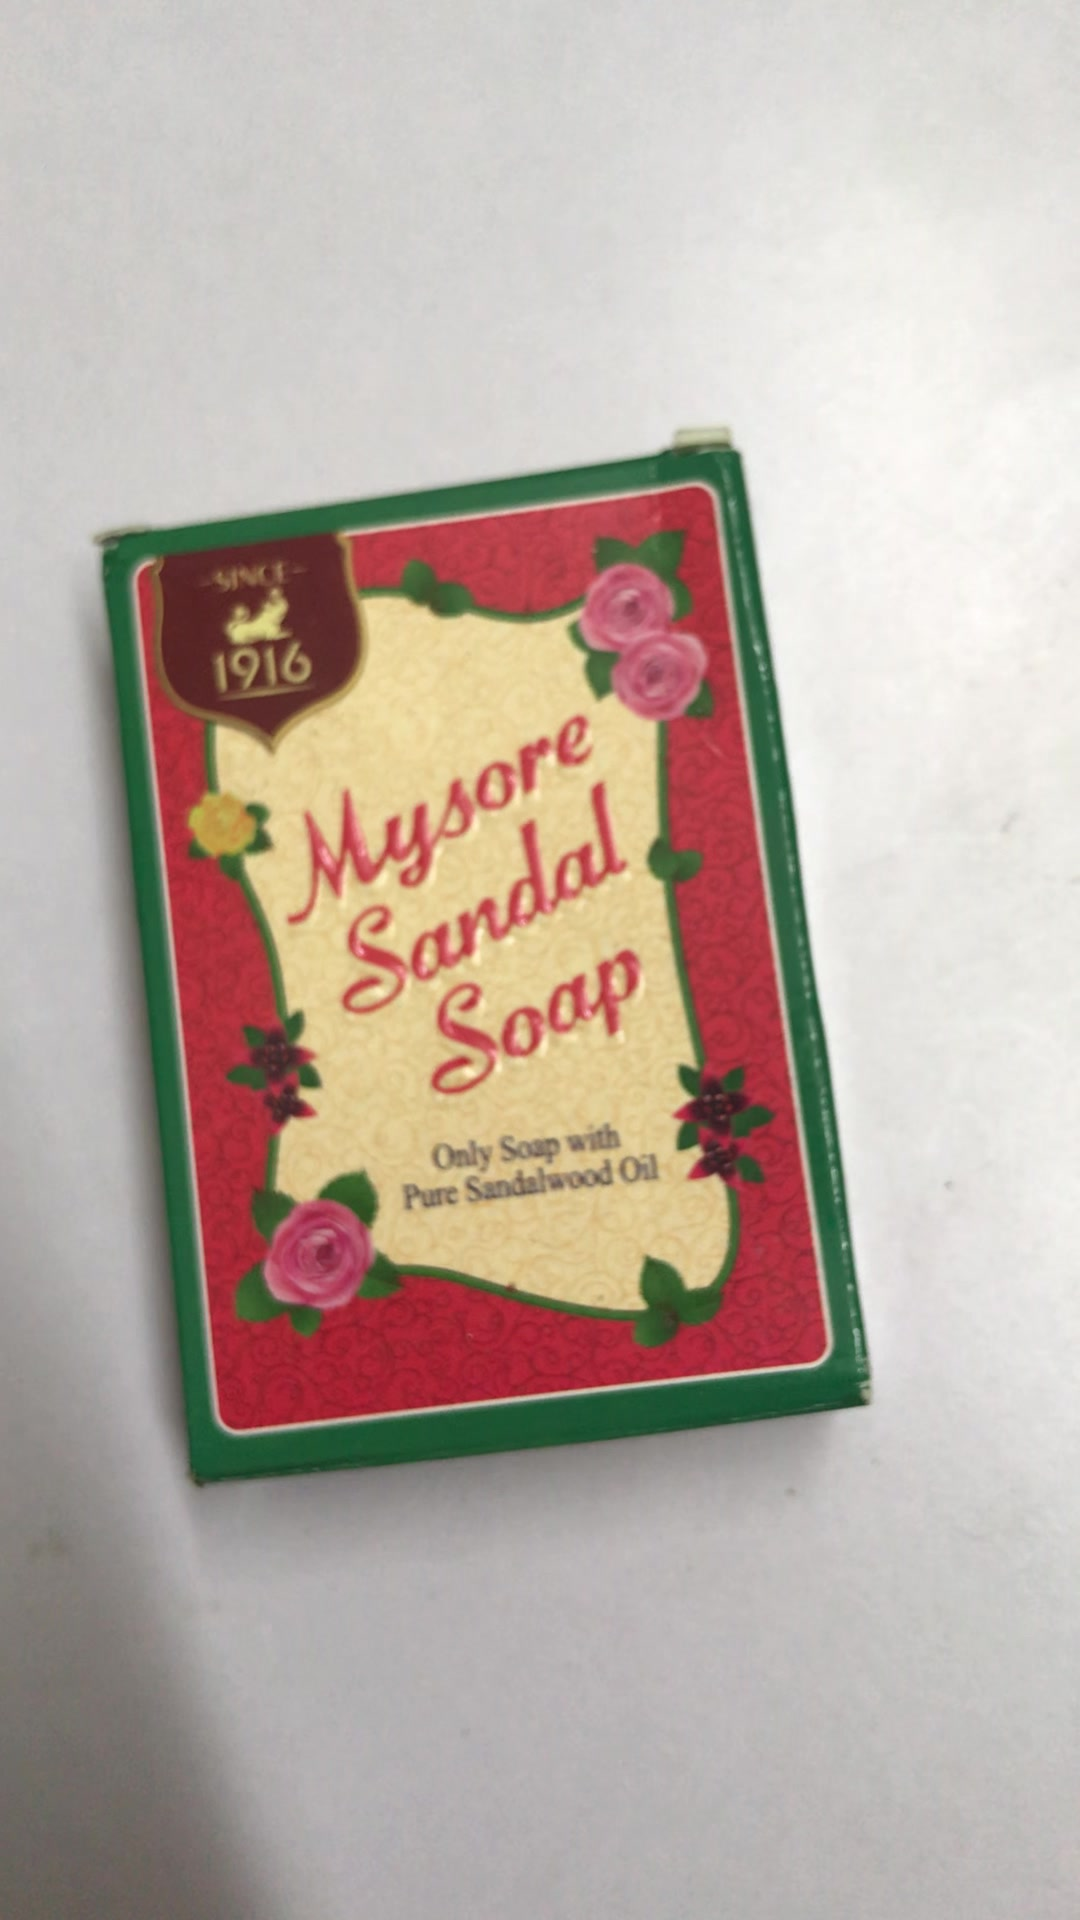mysore sandal soap: (102, 450, 870, 1494)
